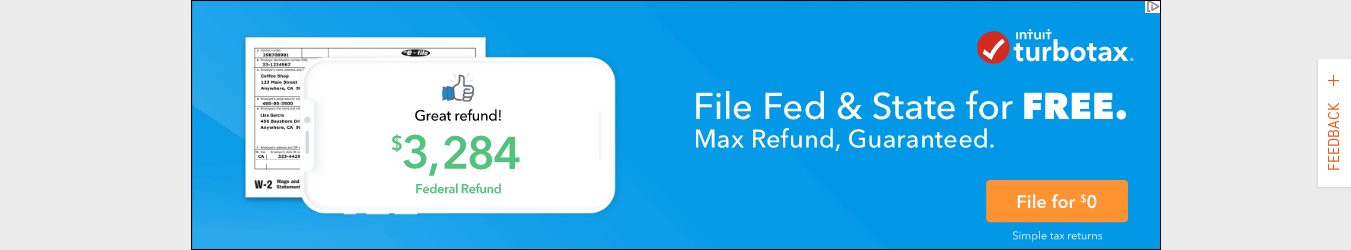fake_button: (982, 178, 1139, 233)
